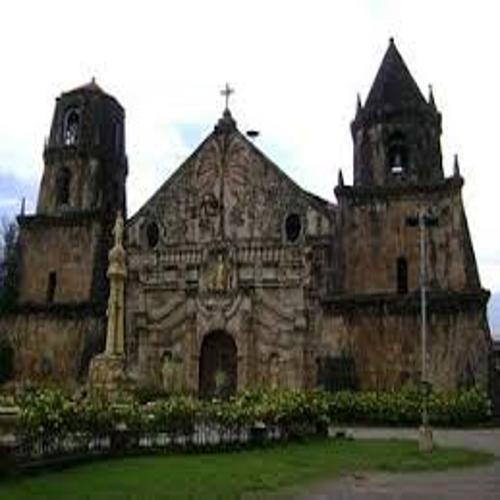Miagao Church: (11, 41, 493, 429)
